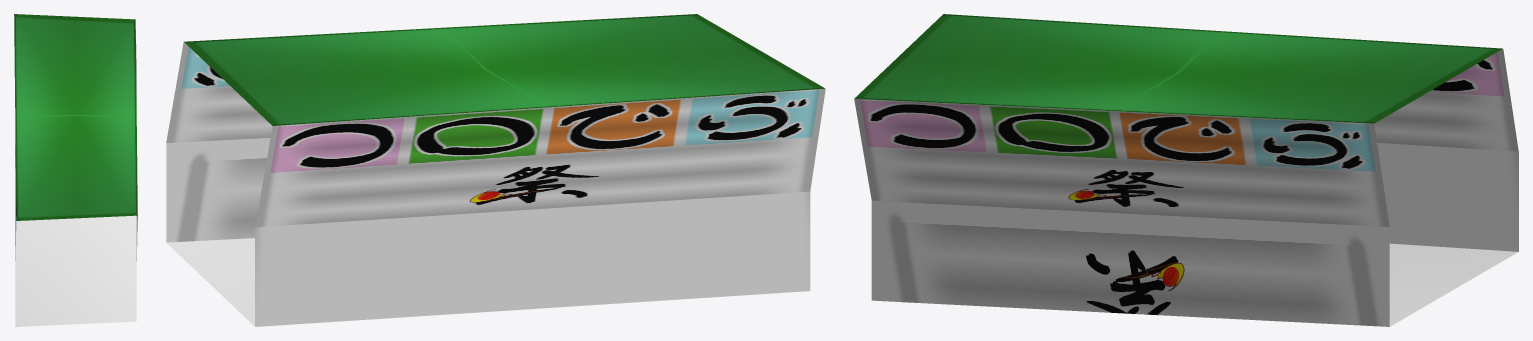
Rendered from CourseAki_Wall_R_7_3.fbx.
3 renders of one model, left to right at view 1: azimuth 30°, elevation 25°; view 2: azimuth 150°, elevation 25°; view 3: azimuth 270°, elevation 25°, orthographic. The views are drawn at different scales.
Visible parts, largest first — view 1: polySurface426; view 2: polySurface426; view 3: polySurface426.
Boxes of the visible parts, x1,y1,x2,y2 form: polySurface426: [14, 14, 137, 326]; polySurface426: [166, 14, 825, 326]; polySurface426: [854, 14, 1518, 326].
Bounding box in the file's own units: 4.6 × 2.98 × 6.02.
1 material, 1 textured.
